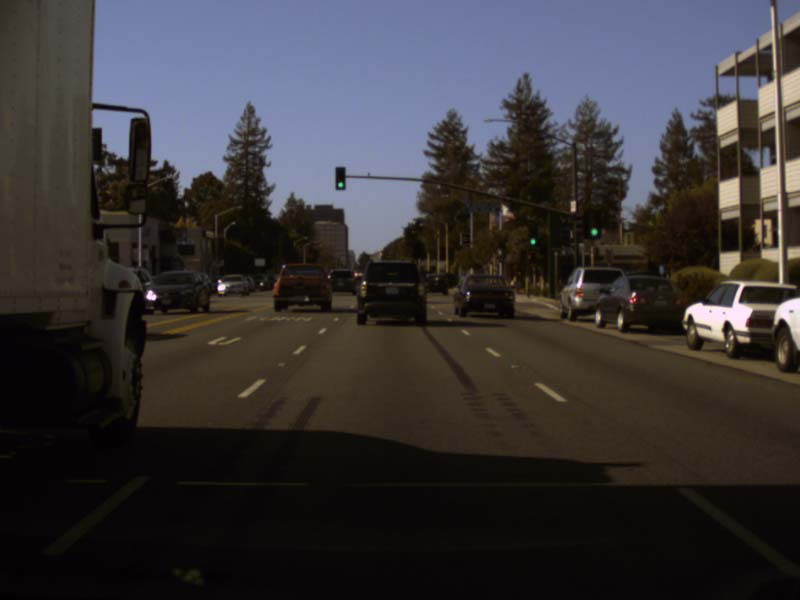Green: (586, 209, 601, 237), (335, 166, 345, 189), (527, 224, 537, 247)
